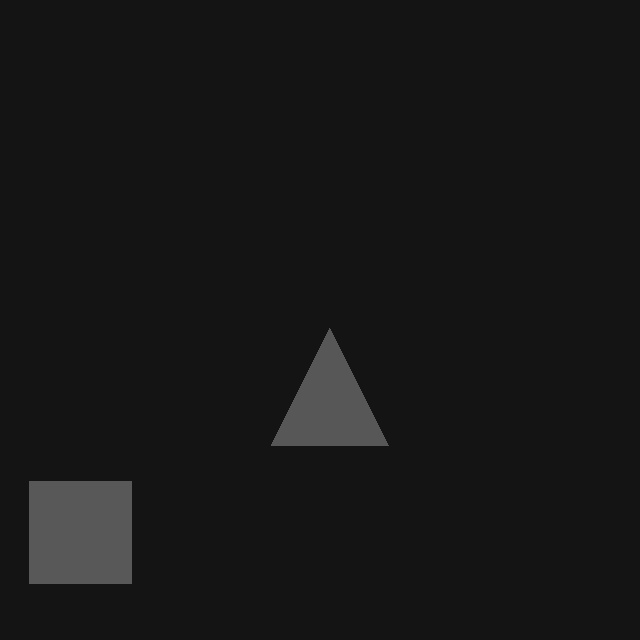square: (29, 481, 131, 583)
triangle: (271, 328, 388, 445)
